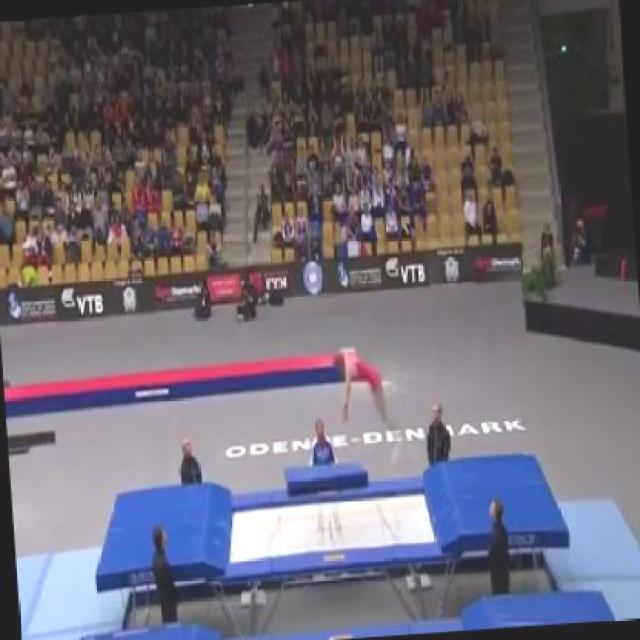non-fight: (330, 344, 390, 430)
